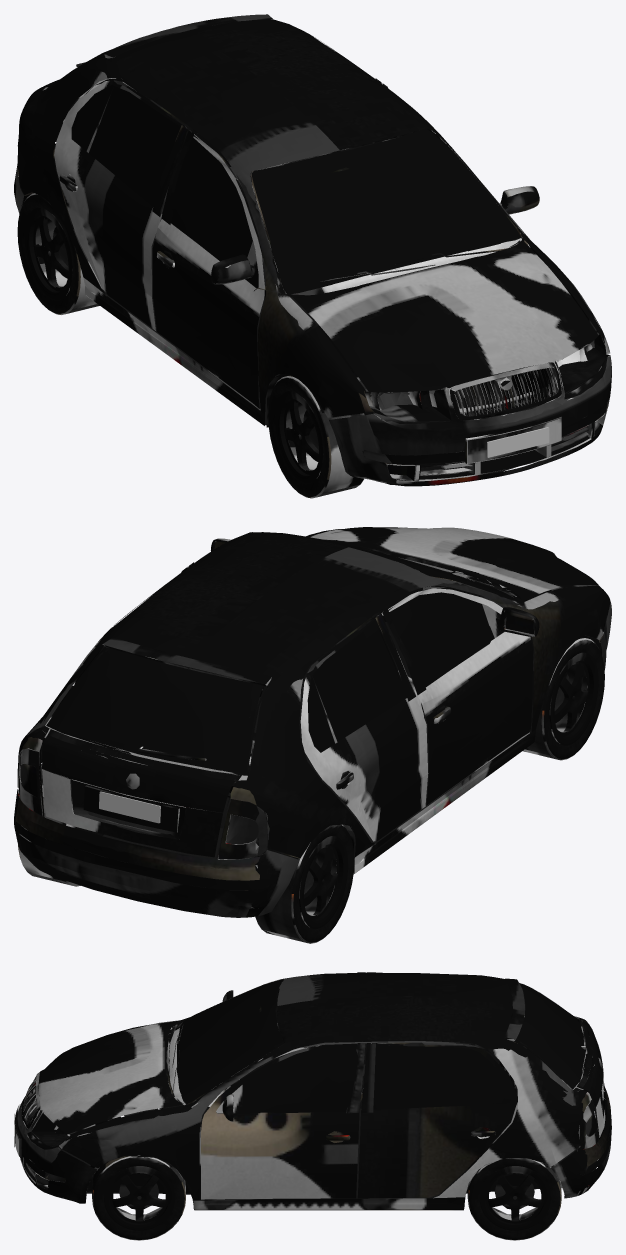
File: Fabia.fbx
3 views of the same model, one above another, from view 1: azimuth 30°, elevation 25°; view 2: azimuth 150°, elevation 25°; view 3: azimuth 270°, elevation 25° (orthographic). The views are drawn at different scales.
Visible parts, largest first — view 1: TRAFFIC_012 Body_LOD0, TRAFFIC_012 Glass_LOD0, TRAFFIC_012 WFR_LOD0, TRAFFIC_012 WRR_LOD0, Inside_LOD0, TRAFFIC_012 Signs; view 2: TRAFFIC_012 Body_LOD0, TRAFFIC_012 Glass_LOD0, TRAFFIC_012 WRR_LOD0, TRAFFIC_012 WFR_LOD0, Inside_LOD0, TRAFFIC_012 Signs, Stops_LOD0, Right_Ind_LOD0; view 3: TRAFFIC_012 Body_LOD0, TRAFFIC_012 Glass_LOD0, TRAFFIC_012 WFL_LOD0, TRAFFIC_012 WRL_LOD0, Inside_LOD0.
Part boxes in pixels (<box>): TRAFFIC_012 Body_LOD0: <box>14,14,611,486</box>; TRAFFIC_012 Glass_LOD0: <box>62,49,520,294</box>; TRAFFIC_012 WFR_LOD0: <box>268,375,364,498</box>; TRAFFIC_012 WRR_LOD0: <box>17,187,102,314</box>; Inside_LOD0: <box>21,78,601,484</box>; TRAFFIC_012 Signs: <box>487,427,549,457</box>; TRAFFIC_012 Body_LOD0: <box>14,527,611,917</box>; TRAFFIC_012 Glass_LOD0: <box>48,532,519,772</box>; TRAFFIC_012 WRR_LOD0: <box>255,824,354,943</box>; TRAFFIC_012 WFR_LOD0: <box>523,637,604,760</box>; Inside_LOD0: <box>24,532,601,890</box>; TRAFFIC_012 Signs: <box>99,791,160,823</box>; Stops_LOD0: <box>18,748,269,837</box>; Right_Ind_LOD0: <box>225,814,258,844</box>; TRAFFIC_012 Body_LOD0: <box>14,972,611,1210</box>; TRAFFIC_012 Glass_LOD0: <box>177,979,585,1113</box>; TRAFFIC_012 WFL_LOD0: <box>92,1155,185,1240</box>; TRAFFIC_012 WRL_LOD0: <box>467,1158,561,1240</box>; Inside_LOD0: <box>50,981,597,1209</box>.
Size of what is drawn, in the model's own units: 2.16 by 4.57 by 1.63.
